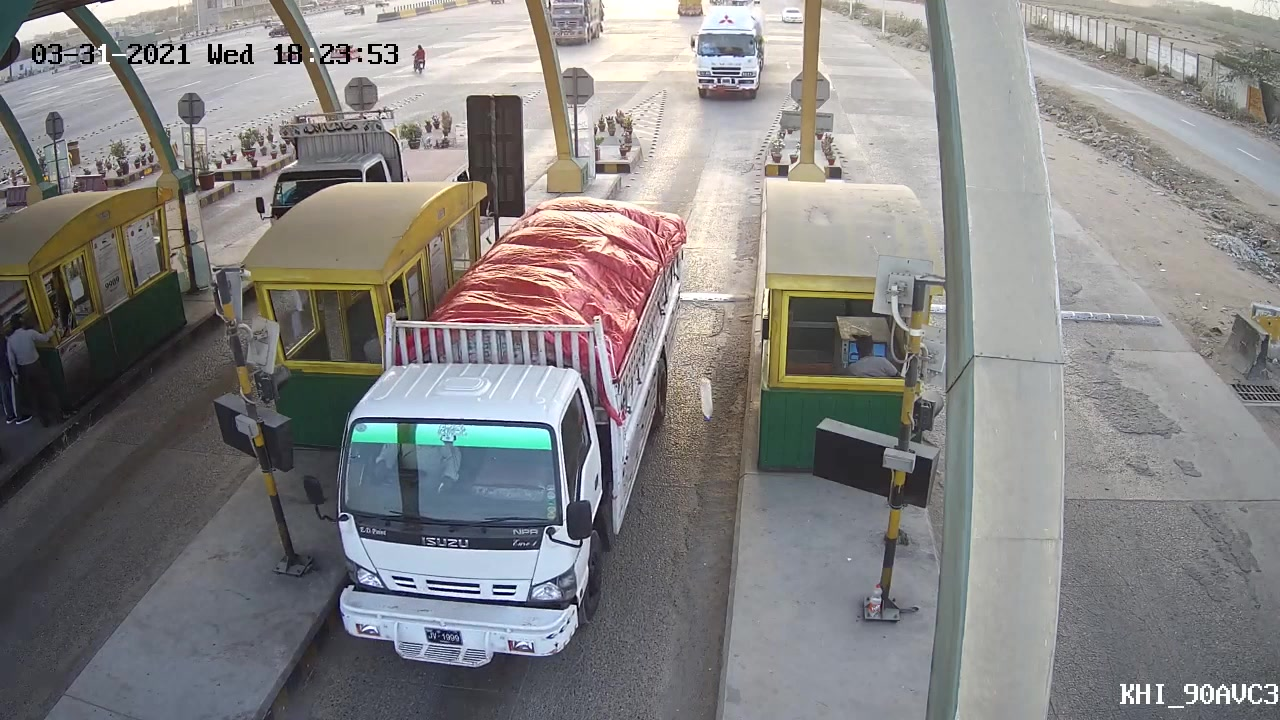F5: (301, 195, 693, 685)
